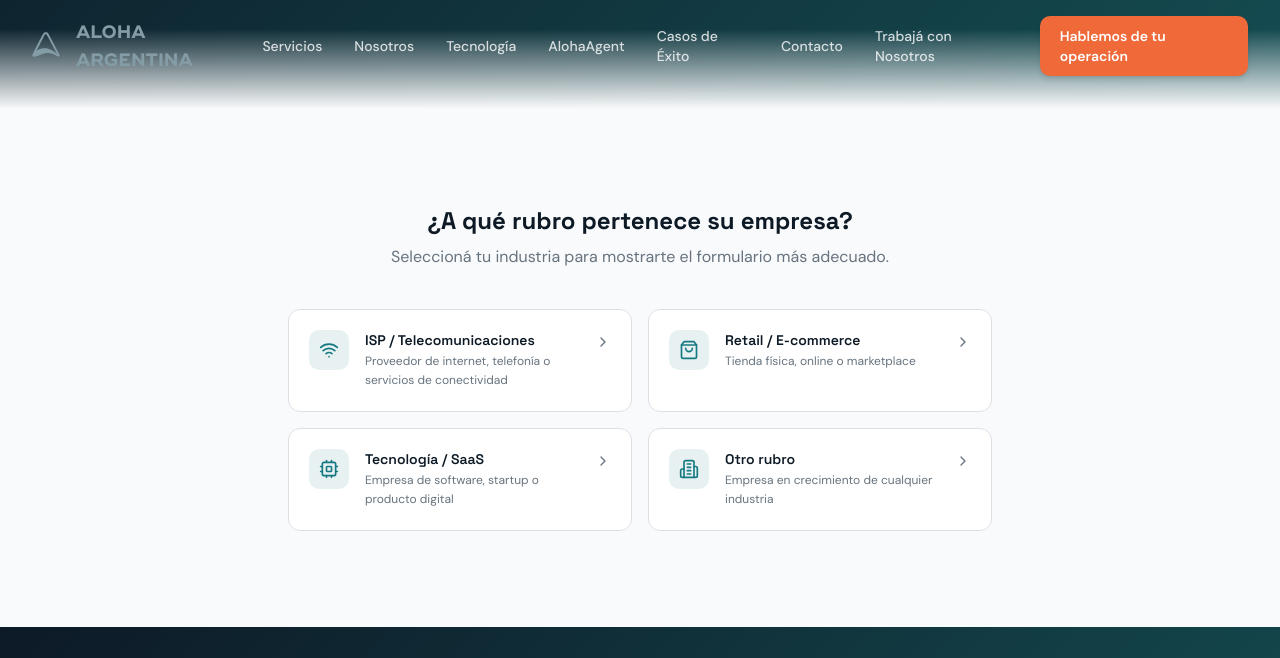
CotizarServicio · accesibilidad › cada grupo de opciones se anuncia con la pregunta que lo encabeza
(page scrolled)
Click the button "Retail / E-commerce Tienda física, online o marketplace". click: coordinates (820, 360)
box: [648,308,992,412]
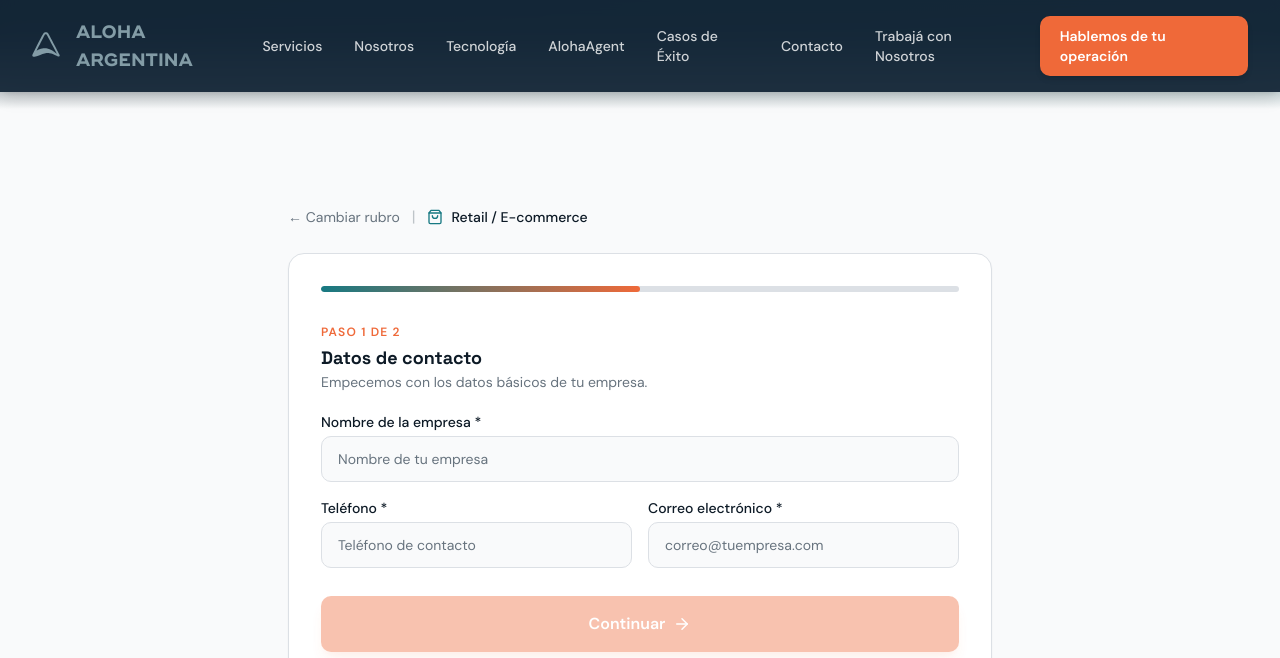
Type "ISP del Sur" into the field with placeholder "Nombre de tu empresa". click: coordinates (640, 458)
box: [321,436,959,482]
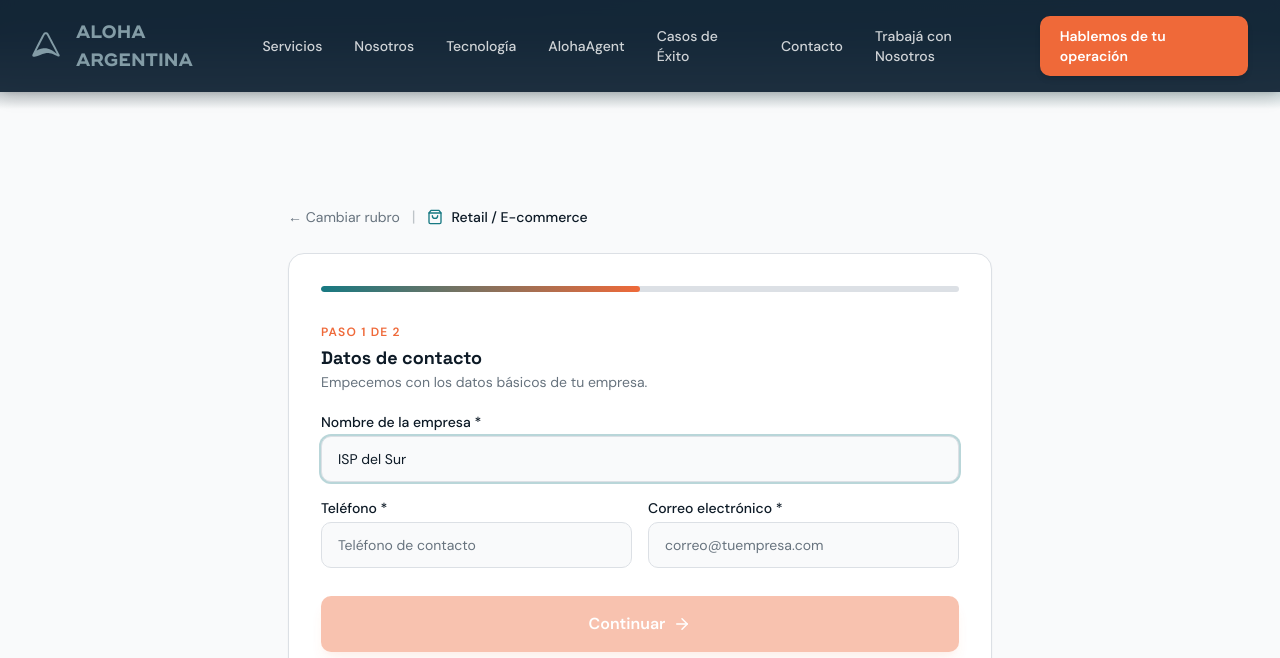
Type "3511234567" into the field with placeholder "Teléfono de contacto". click: coordinates (476, 544)
box: [321,522,632,568]
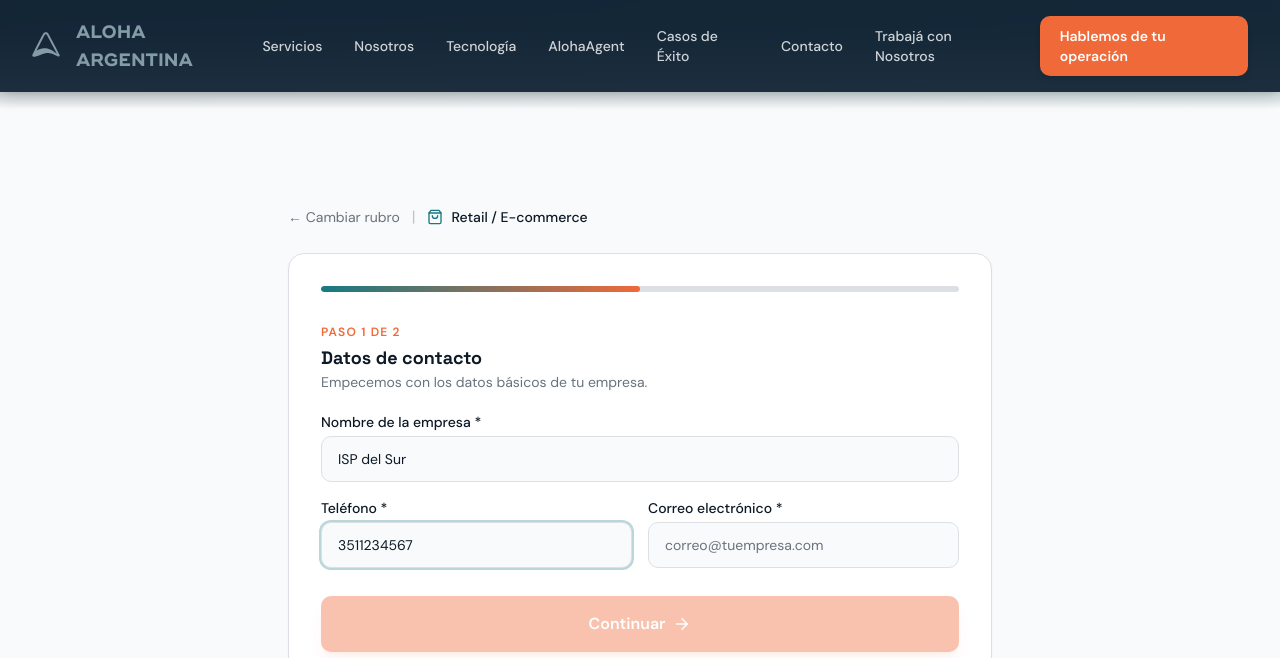
Type "ana@ispdelsur.com" into the field with placeholder "correo@tuempresa.com". click: coordinates (804, 544)
box: [648,522,959,568]
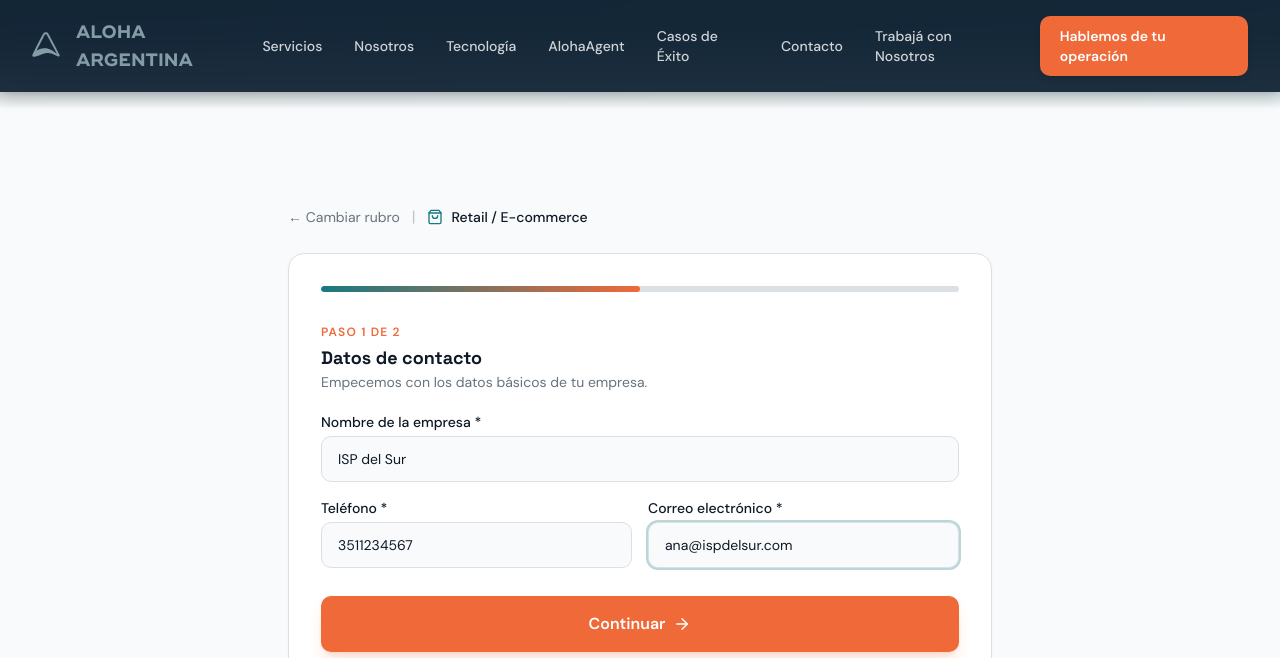
Click the button "Continuar". click: coordinates (640, 624)
box: [321,596,959,652]
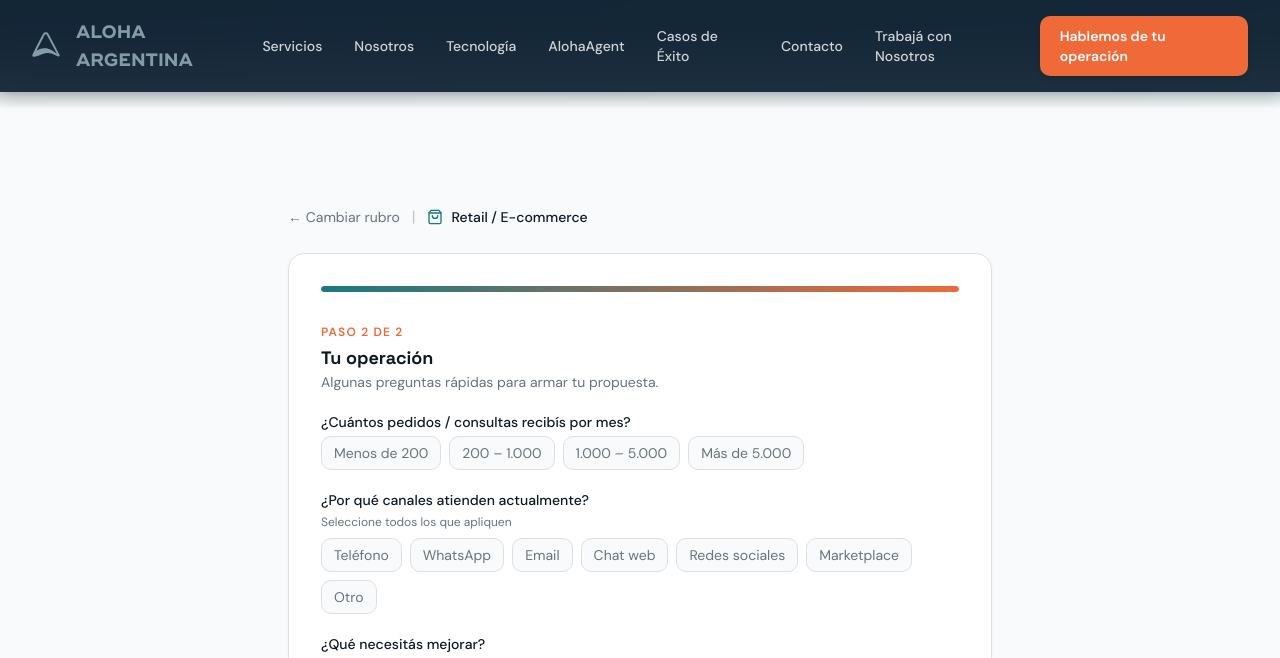
expect the element named "cuántos pedidos / consultas recibís por mes" is shown: met, box [321,436,804,470]
expect the element named "por qué canales atienden actualmente" is shown: met, box [321,538,959,614]
